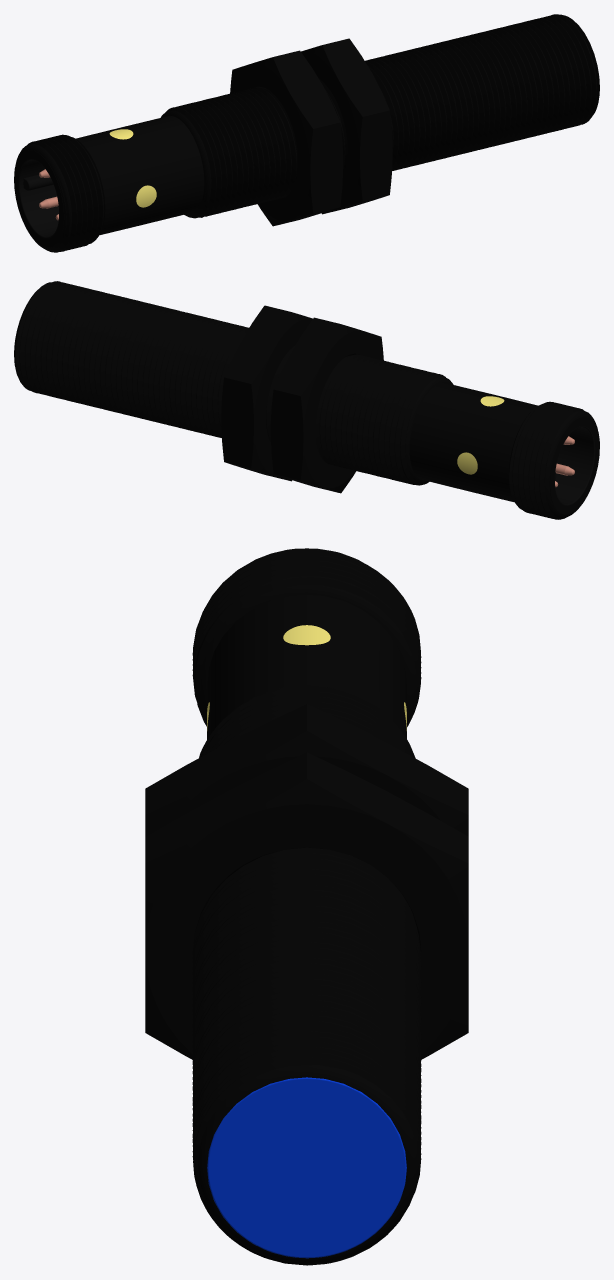
File: IME12 v1.fbx
3 renders of one model, top to bottom at view 1: azimuth 30°, elevation 25°; view 2: azimuth 150°, elevation 25°; view 3: azimuth 270°, elevation 25°, orthographic. The views are drawn at different scales.
Parts seen in each view (by area): view 1: Body1 (×4), Body3; view 2: Body1 (×4), Body3; view 3: Body1 (×3), Body2.
Part boxes in pixels (x1,y1,x2,y2): Body1 (×4): [14, 14, 599, 252]; Body3: [109, 129, 156, 207]; Body1 (×4): [14, 281, 599, 519]; Body3: [457, 396, 504, 474]; Body1 (×3): [145, 548, 468, 1265]; Body2: [207, 1077, 406, 1258].
Size of the model in its own units: 65 by 19.63 by 17.
